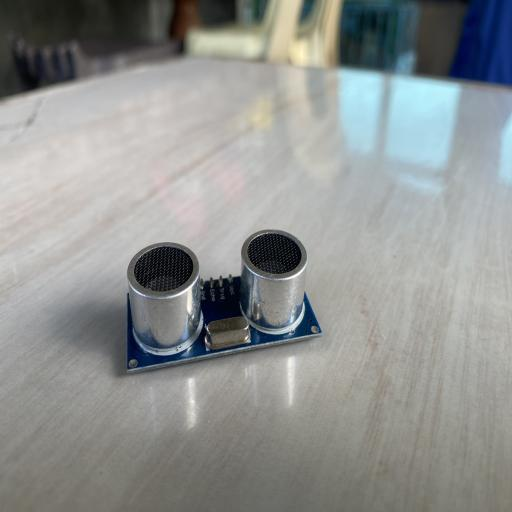Ultrasonic Sensor: (126, 228, 322, 374)
